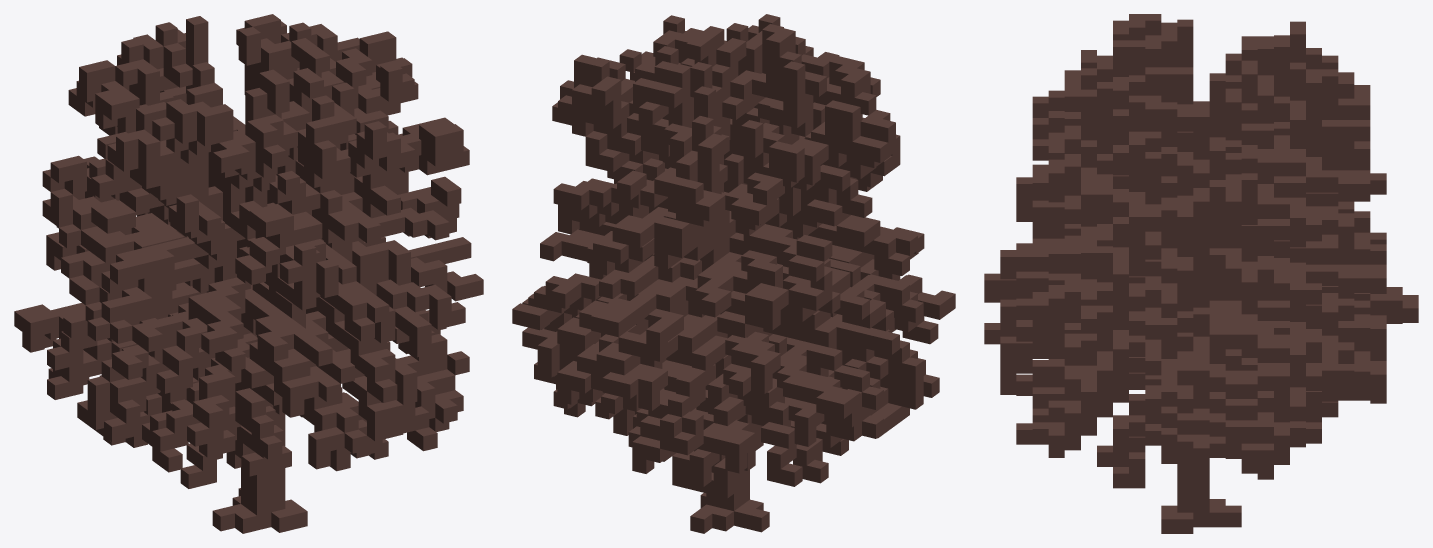
The model's file is Combined Desert(2)-15-tree.obj.
3 views of the same model, side by side, from view 1: azimuth 30°, elevation 25°; view 2: azimuth 150°, elevation 25°; view 3: azimuth 270°, elevation 25° (orthographic). The views are drawn at different scales.
Visible parts, largest first — view 1: tree; view 2: tree; view 3: tree.
Part boxes in pixels (<box>): tree: <box>14,14,483,533</box>; tree: <box>512,14,955,533</box>; tree: <box>984,14,1418,533</box>.
Bounding box in the file's own units: 2.6 × 3.2 × 2.7.
1 material, 1 textured.
